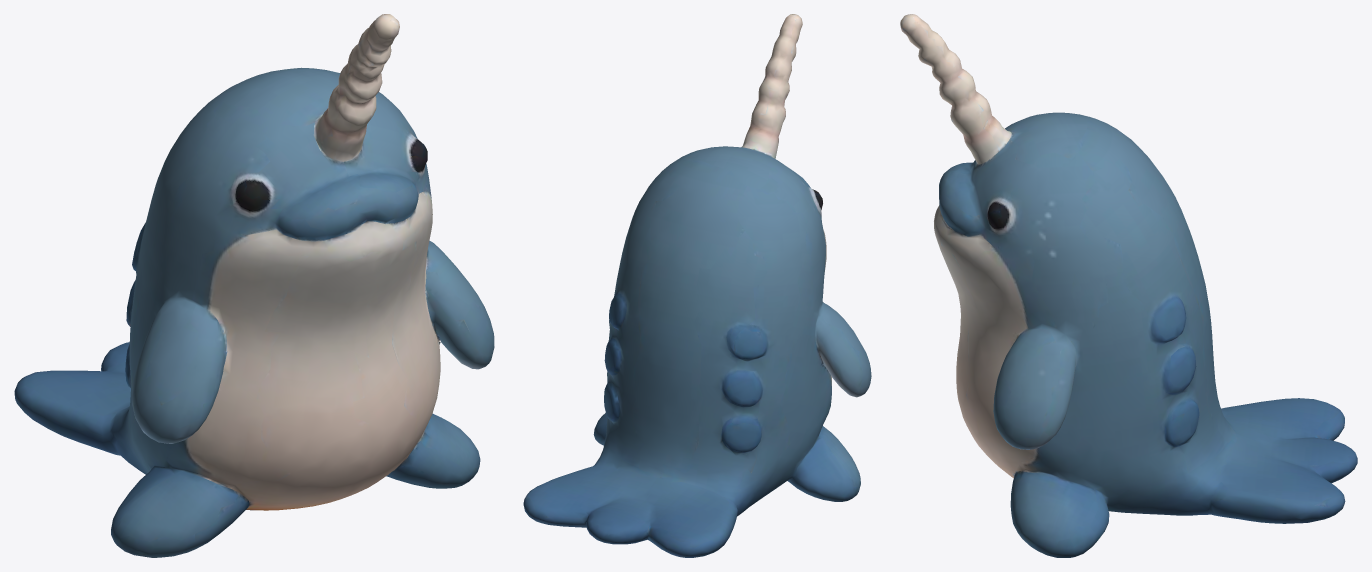
The model's file is narwhal.glb.
The picture shows the model from 3 angles, left to right: view 1: azimuth 30°, elevation 25°; view 2: azimuth 150°, elevation 25°; view 3: azimuth 270°, elevation 25°; orthographic projection. The views are drawn at different scales.
Bounding box in the file's own units: 0.6675 × 1.01 × 0.8775.
1 material, 1 textured.
